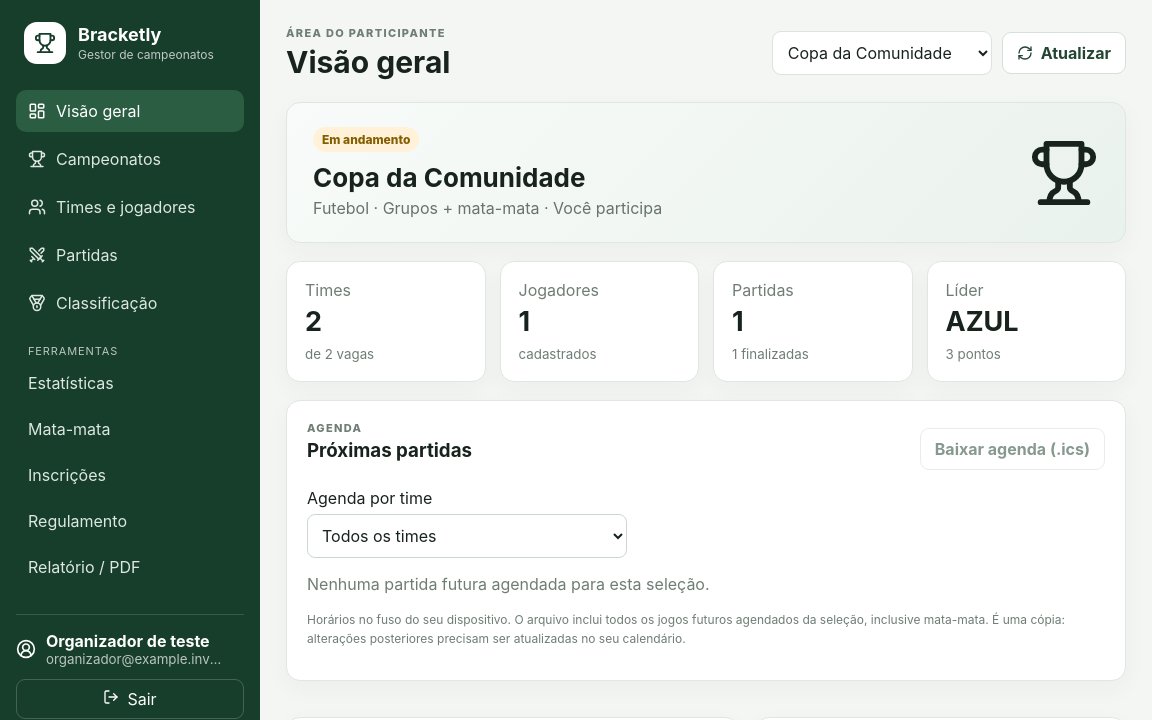
Test: bloqueia o formulário lotado para participante
Check: the heading "Copa da Comunidade" is shown, box [313,162,585,193]
Click the button "Times e jogadores" at (130, 207), box [16,186,244,228]
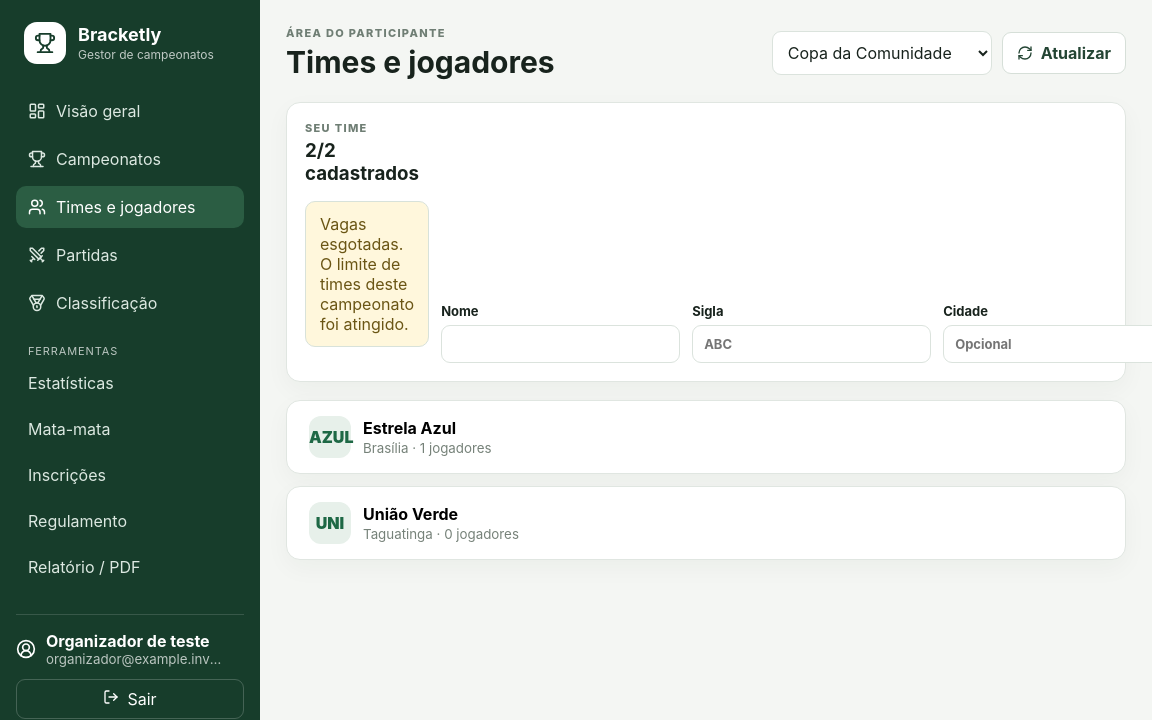
Check: the message shows "Vagas esgotadas", box [320,214,414,334]
Check: the field labelled "Nome" is disabled, box [441,325,680,363]
Check: the field labelled "Sigla" is disabled, box [692,325,931,363]
Submit the form named "Adicionar", box [286,102,1126,382]
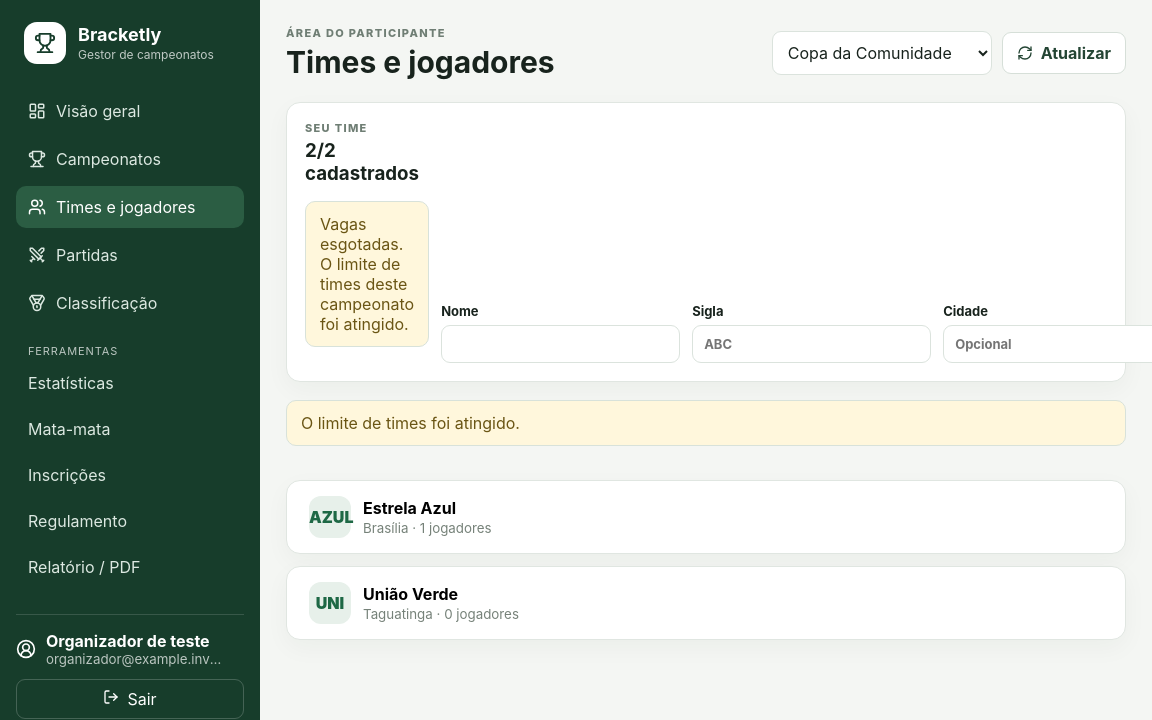
Check: the text "O limite de times foi atingido." is shown, box [286,400,1126,446]
